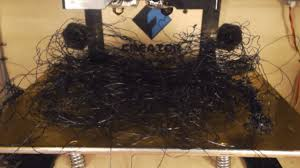fail: (12, 19, 289, 153)
